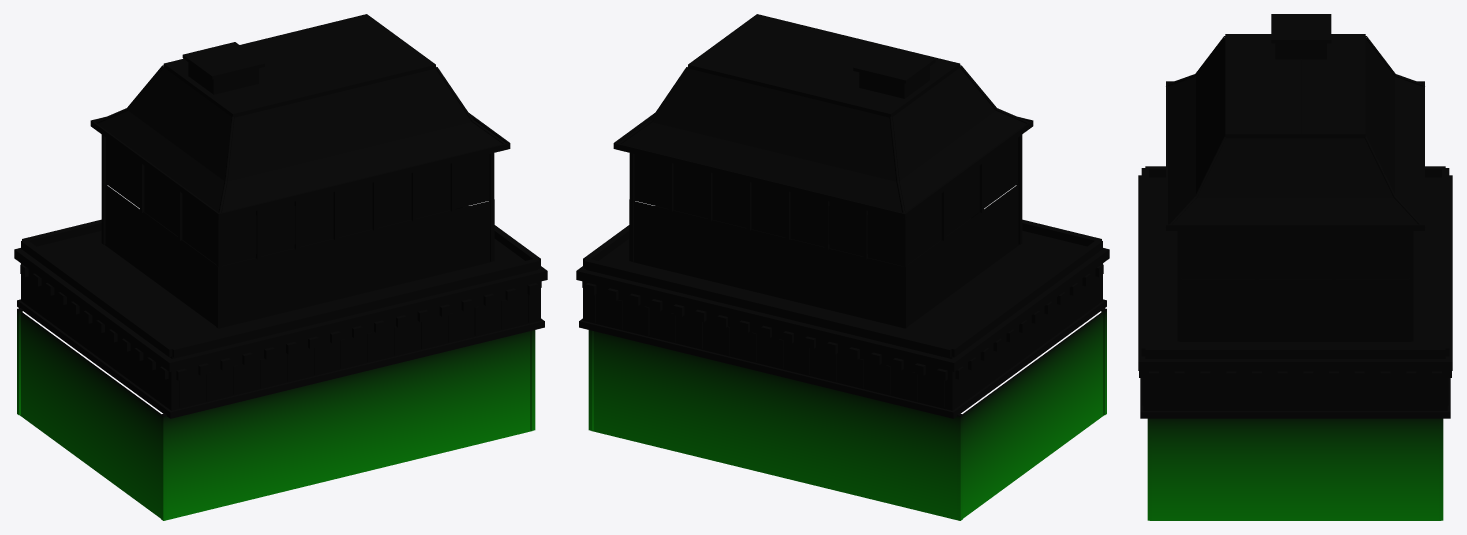
File: l_palacewing.glb
3 renders of one model, left to right at view 1: azimuth 30°, elevation 25°; view 2: azimuth 150°, elevation 25°; view 3: azimuth 270°, elevation 25°, orthographic.
Parts seen in each view (by area): view 1: lod0; view 2: lod0; view 3: lod0.
Part boxes in pixels (x1,y1,x2,y2): lod0: (14,14,547,520); lod0: (576,14,1109,520); lod0: (1138,14,1452,520).
Size of what is drawn, in the model's own units: 31.05 by 29.23 by 22.
